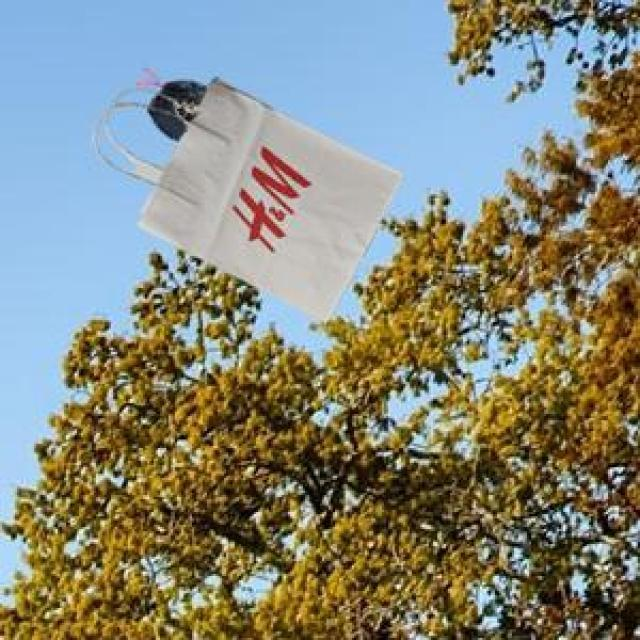miscellaneous trash: (145, 77, 203, 137)
paper: (120, 75, 401, 318)
